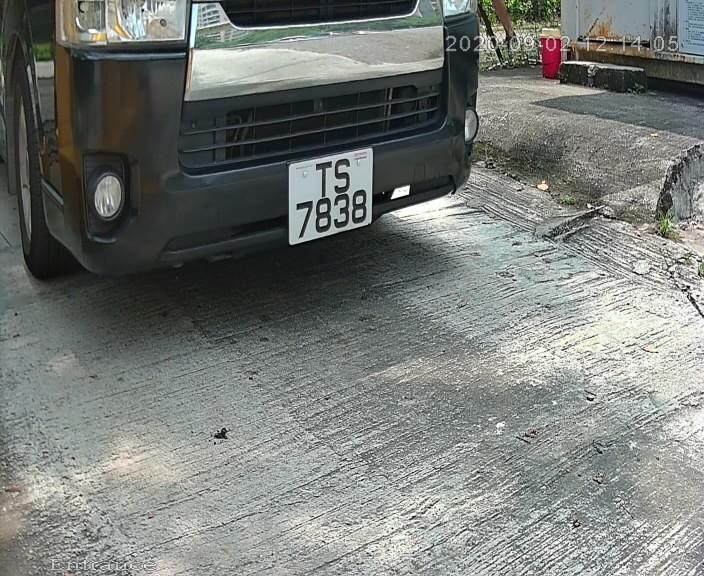License Plate: (280, 150, 387, 245)
